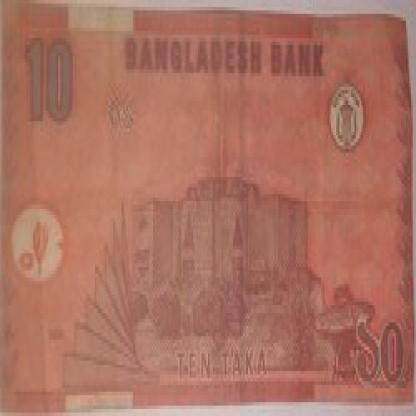Ten Taka: (22, 31, 76, 139), (353, 312, 409, 399)
